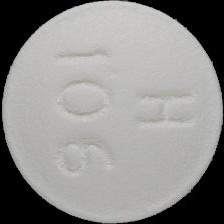67296-0648: (0, 0, 224, 224)
